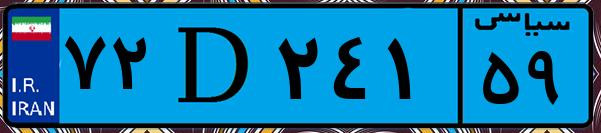1: (385, 28, 445, 110)
2: (270, 28, 330, 110), (110, 28, 158, 98)
4: (330, 28, 385, 110)
5: (475, 38, 525, 113)
7: (57, 26, 110, 100)
9: (525, 38, 570, 115)
D: (158, 12, 270, 120)
